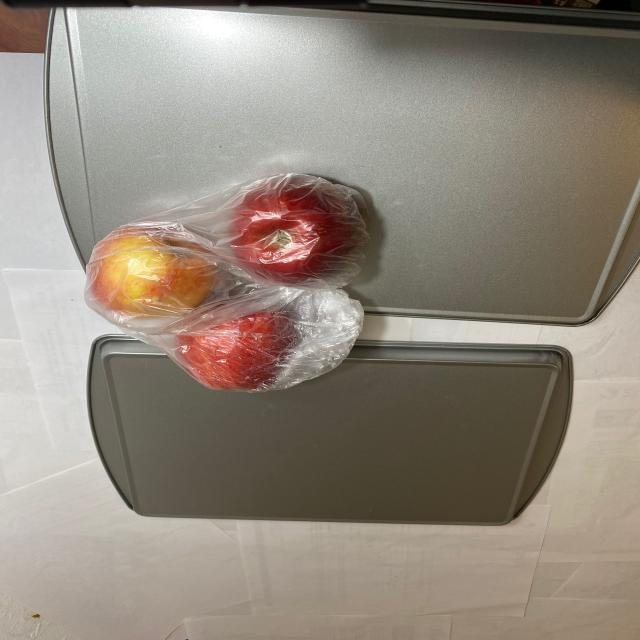apple: (86, 177, 369, 397)
